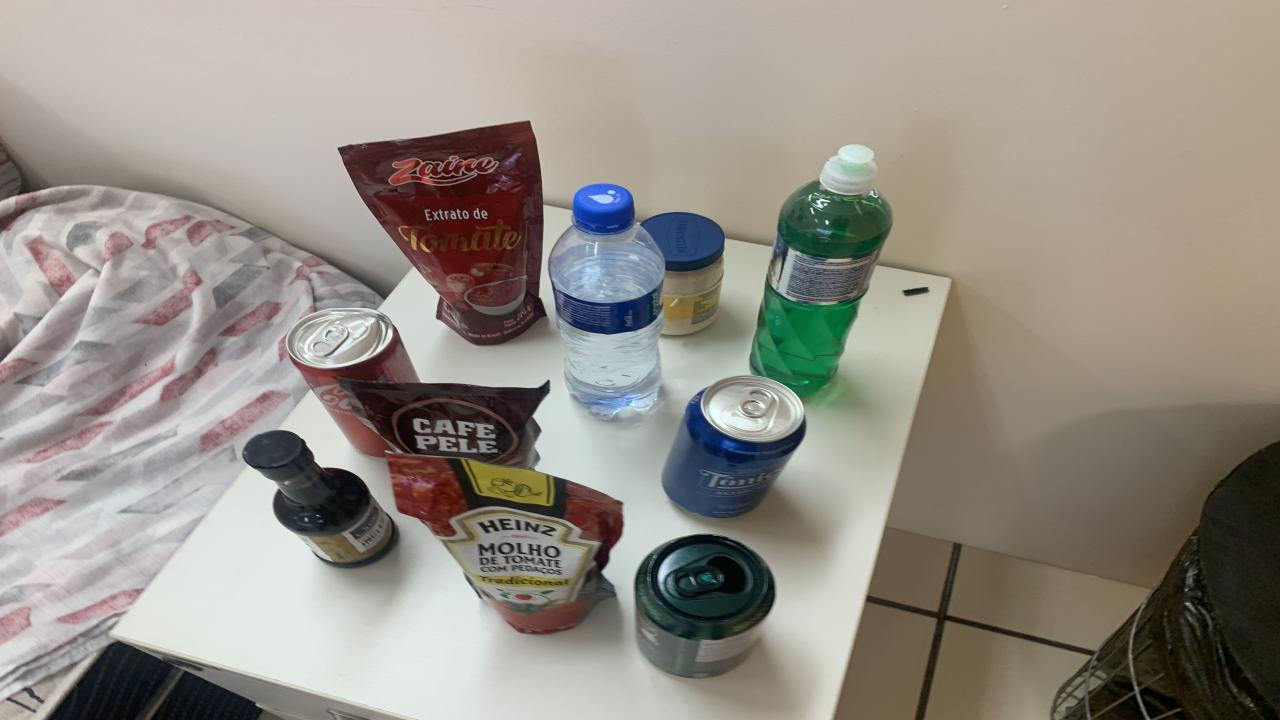Coffee-Pantry_Items: (340, 379, 550, 469)
Coke-Drinks: (285, 308, 418, 458)
Detergent-Cleanup_Items: (750, 144, 892, 396)
English_Sauce-Pantry_Items: (245, 431, 398, 568)
Guarana_Can-Drinks: (635, 534, 775, 679)
Mayonnaise-Pantry_Items: (642, 212, 725, 336)
Tomato_Sauce-Pantry_Items: (340, 122, 545, 345), (388, 454, 622, 632)
Tonic-Drinks: (662, 375, 805, 518)
Water_Bottle-Drinks: (548, 184, 665, 416)
